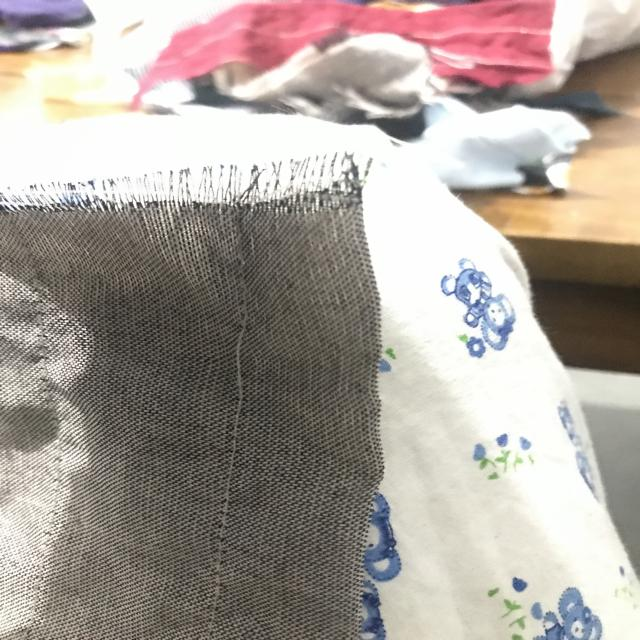skip: (217, 307, 259, 400)
